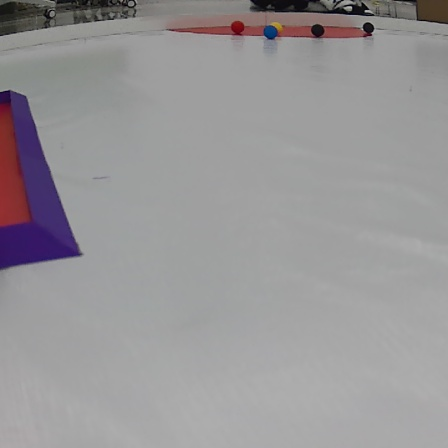black: (309, 23, 326, 37), (360, 22, 377, 35)
blue: (261, 25, 278, 41)
red: (229, 19, 246, 37)
red_base: (165, 21, 385, 41)
yellow: (270, 20, 286, 35)
